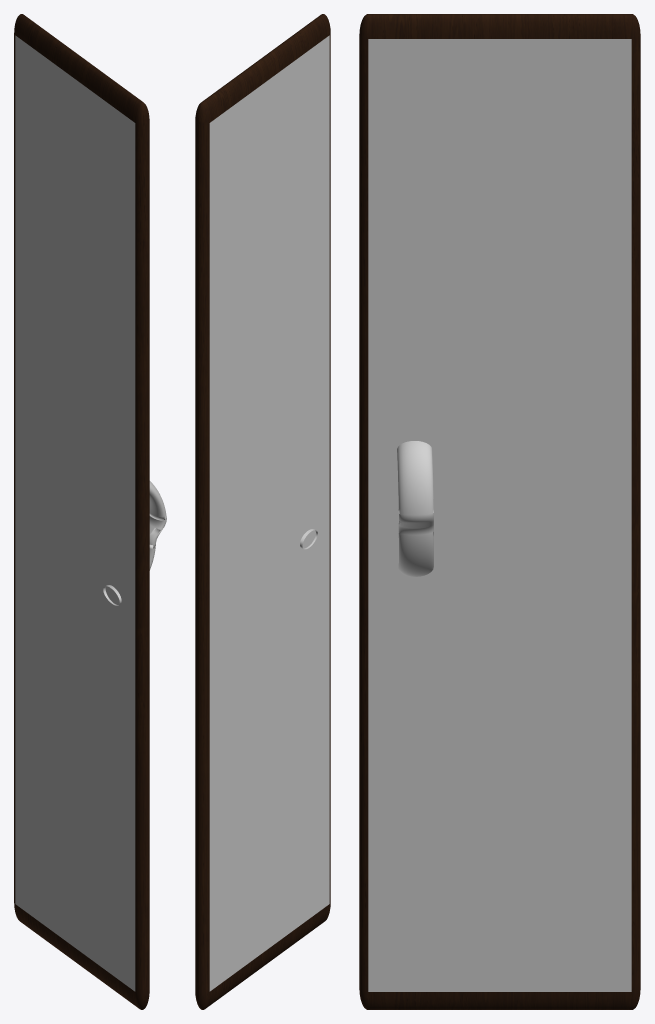
The model's file is Med Cab Door (Right).fbx.
3 renders of one model, left to right at view 1: azimuth 30°, elevation 25°; view 2: azimuth 150°, elevation 25°; view 3: azimuth 270°, elevation 25°, orthographic. The views are drawn at different scales.
Parts seen in each view (by area): view 1: Door_2, Door_1, Handle; view 2: Door_2, Door_1; view 3: Door_2, Door_1, Handle.
Part boxes in pixels (bbox=[...]): Door_2: bbox=[15, 35, 135, 991]; Door_1: bbox=[14, 14, 149, 1009]; Handle: bbox=[103, 481, 166, 605]; Door_2: bbox=[209, 35, 329, 991]; Door_1: bbox=[195, 14, 330, 1009]; Door_2: bbox=[368, 39, 631, 991]; Door_1: bbox=[359, 14, 640, 1009]; Handle: bbox=[397, 441, 433, 576].
Bounding box in the file's own units: 14.55 × 242 × 61.99.
